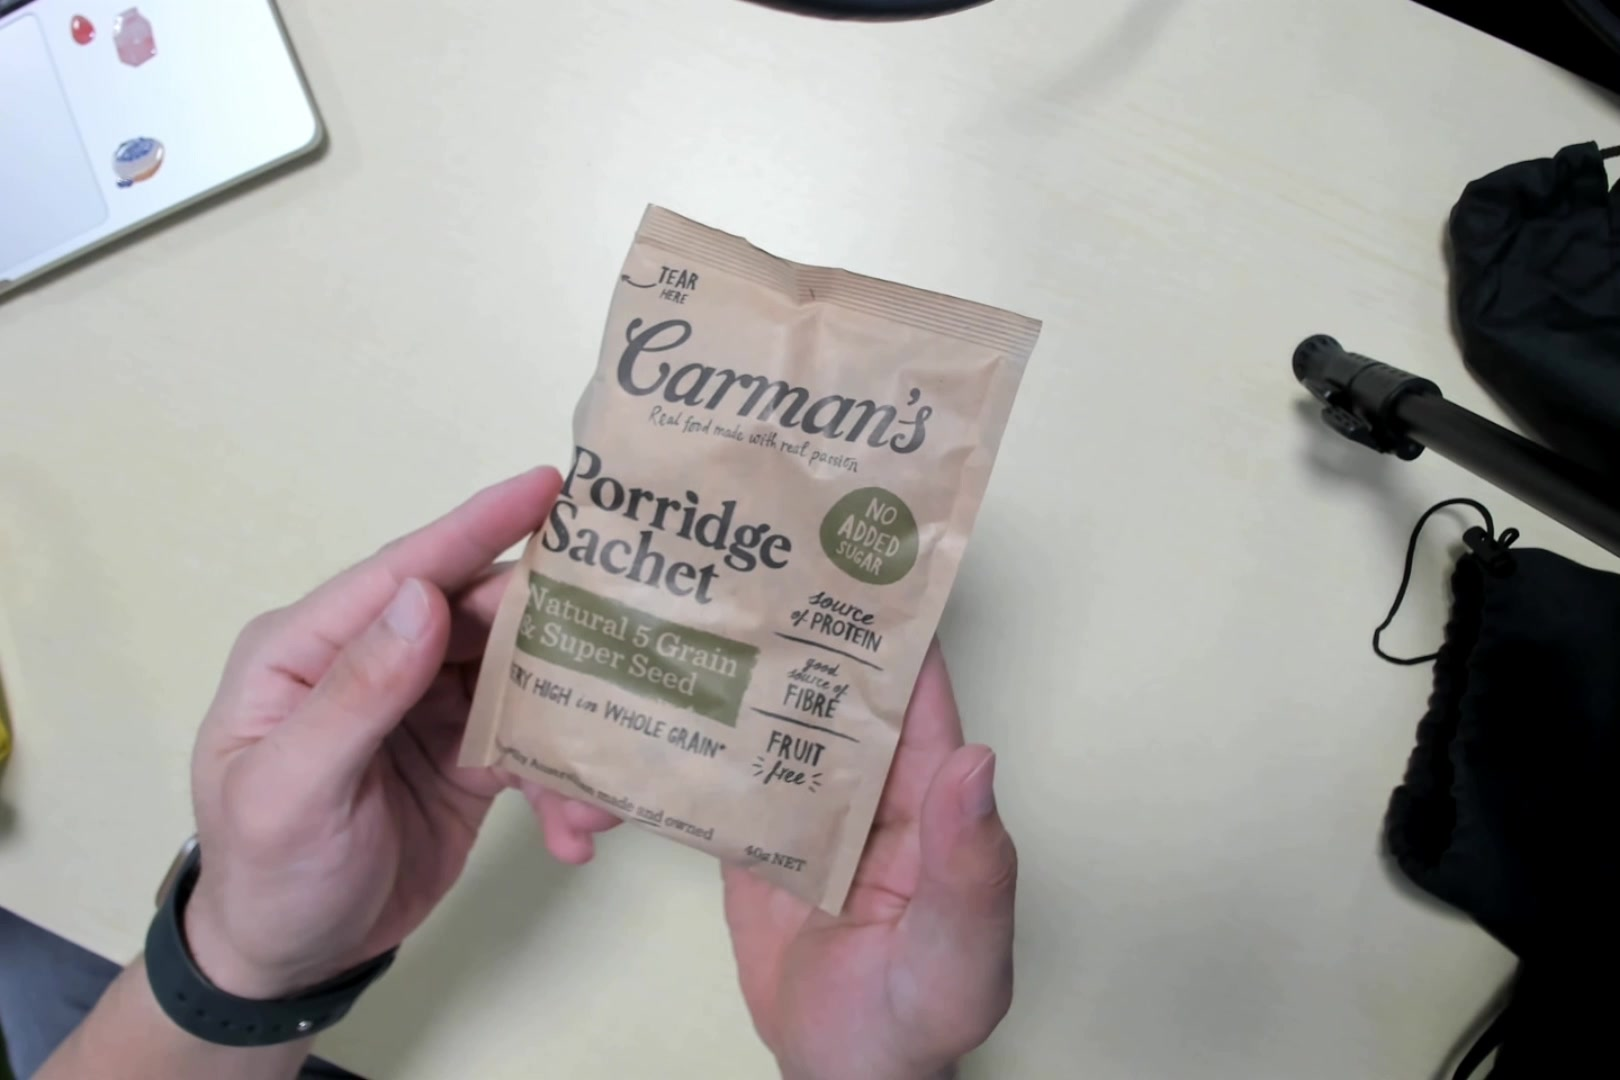InstantMeals_0-99g_NonHalal_NonHealthy: (466, 200, 1035, 912)
